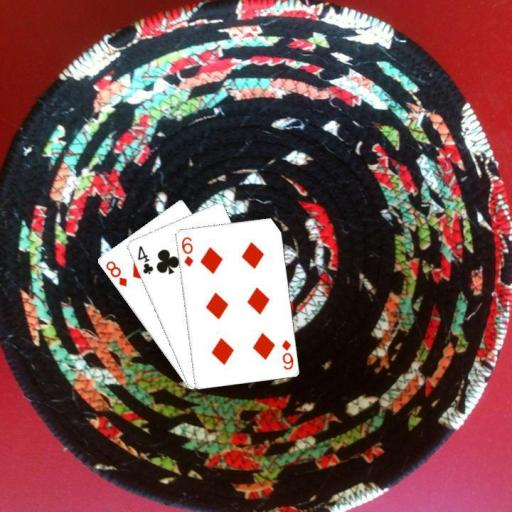4C: (135, 242, 155, 276)
6D: (178, 233, 194, 268), (279, 337, 294, 371)
8D: (102, 257, 128, 288)
